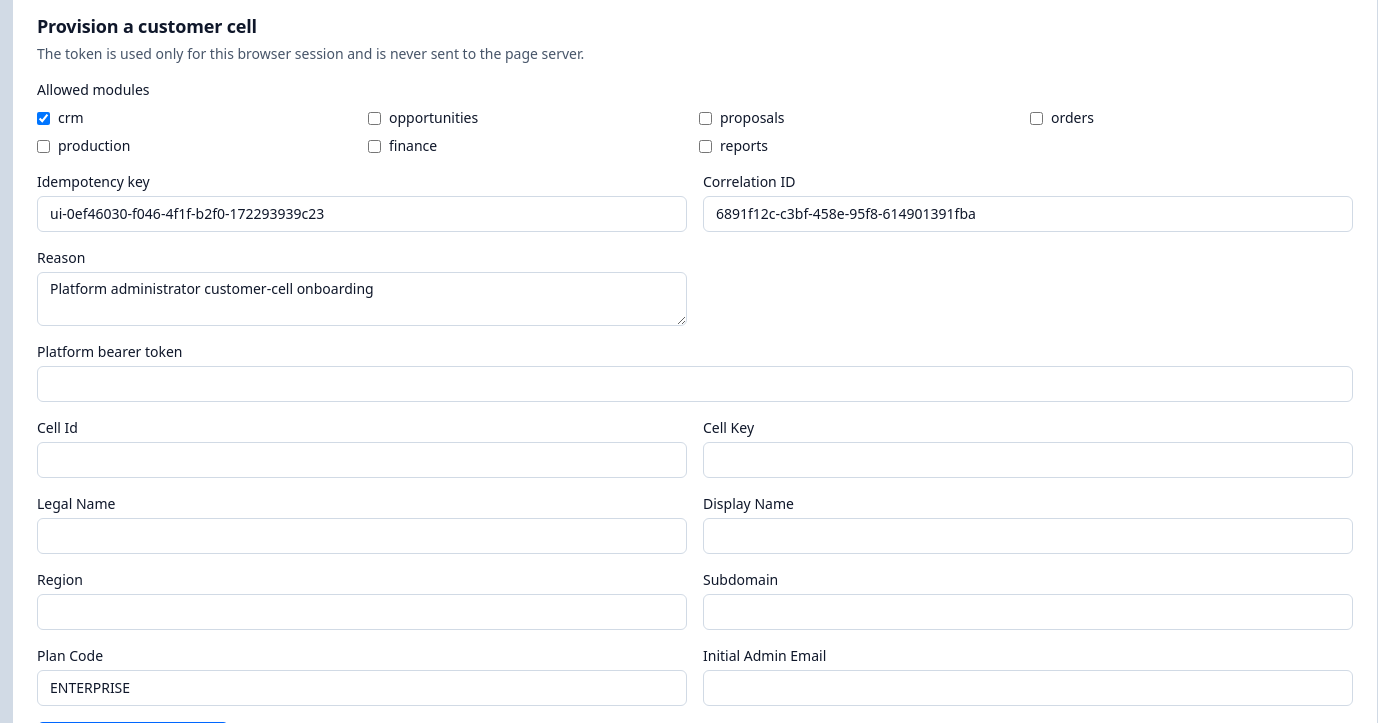
it: CustomerCellOnboardingPanel › renders API errors
The width and height of the screenshot is (1378, 723).
In the password field labelled "Platform bearer token": (695, 384) [37,366,1353,402], type "runtime-secret"
(page scrolled)
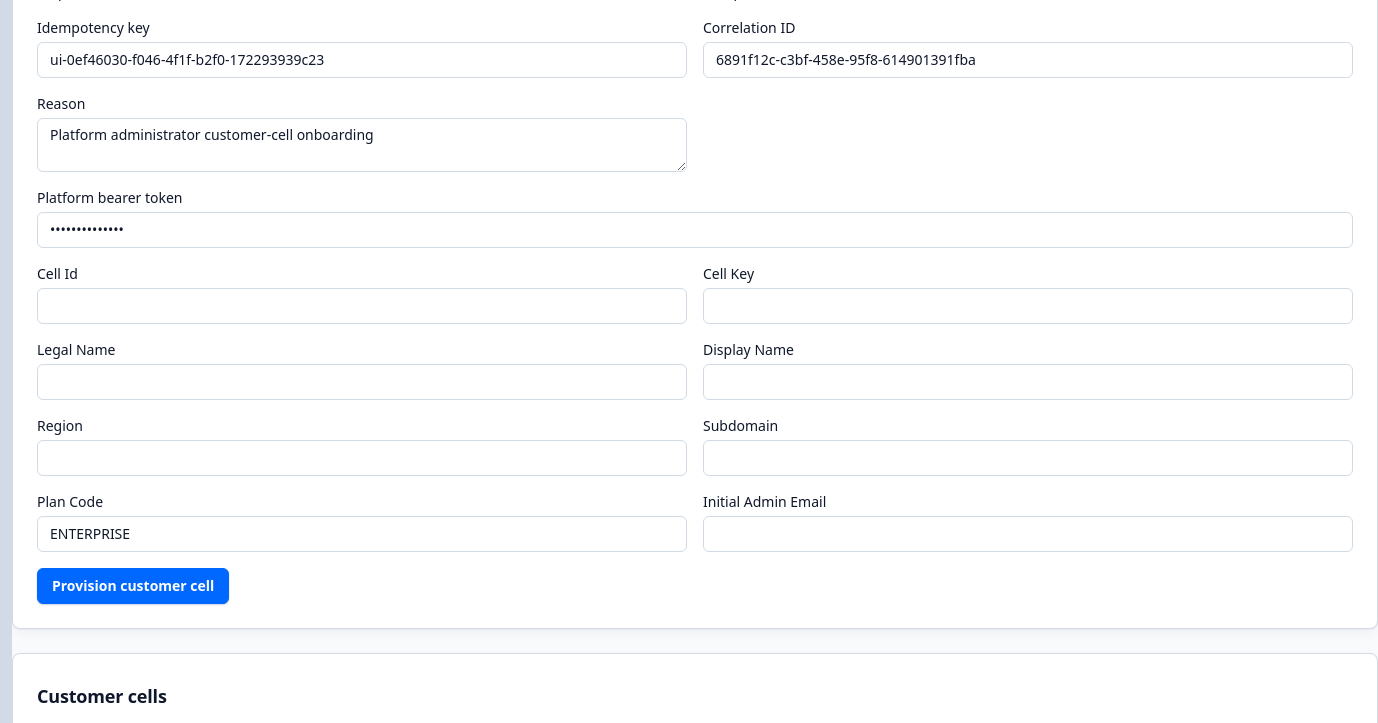
Click the button "Provision customer cell": (133, 586) [37,568,229,604]
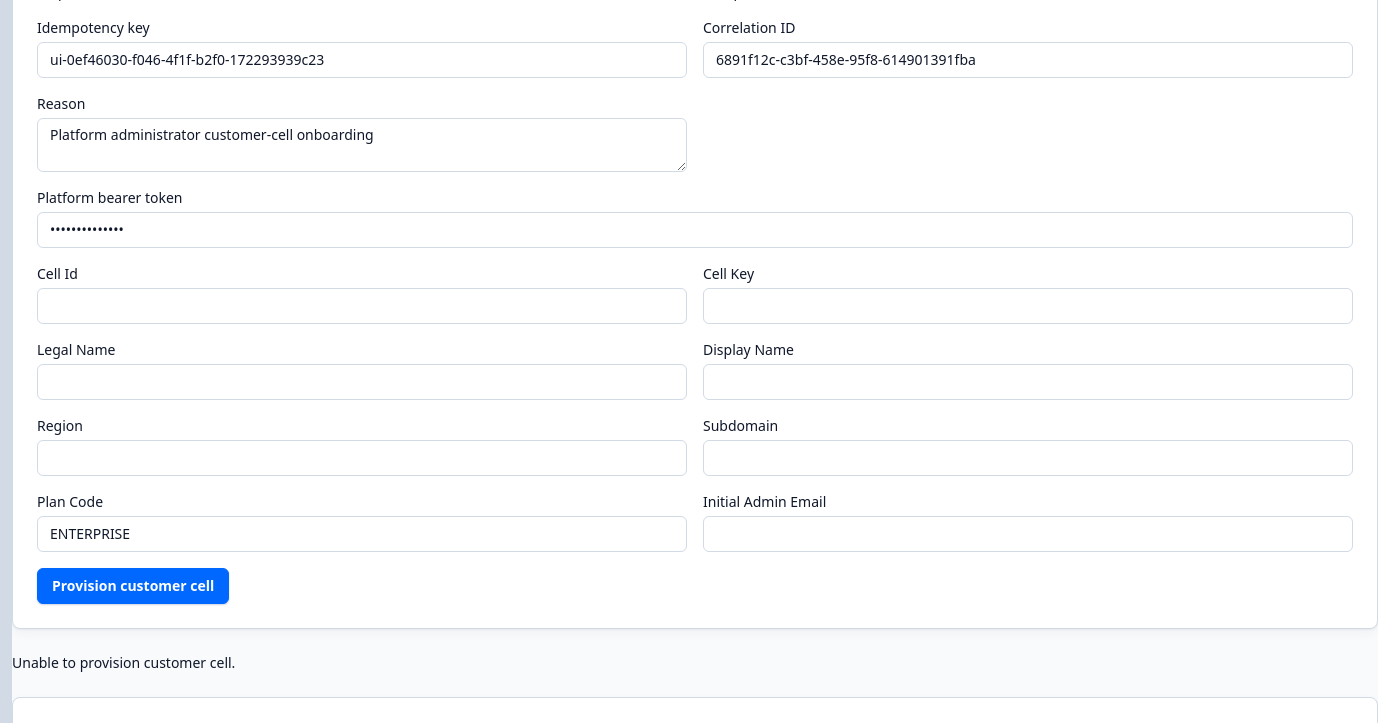
Now the text "Unable to provision customer cell." is shown, box [12,653,235,672]
